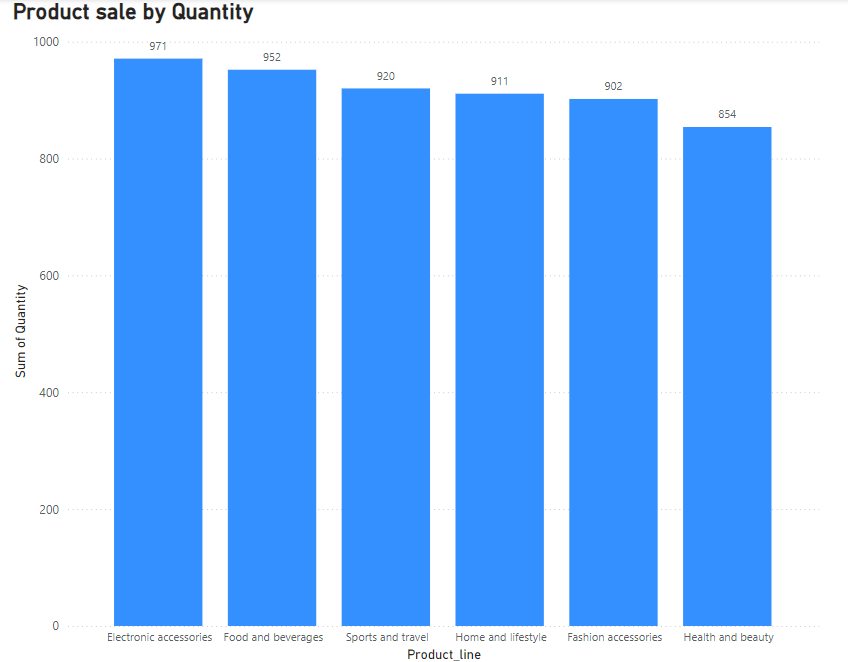

The page's visual inventory and layout, read from the dashboard file:
{"tool":"powerbi","page":{"name":"Product sale by Quantity","canvas":[1280,720],"ordinal":6},"visuals":[{"type":"clusteredColumnChart","title":"Product sale by Quantity","fields":{"Category":["supermarket_sales_data.Product_line"],"Y":["Sum(supermarket_sales_data.Quantity)"]},"box":[9.7,0,880.9,720.6],"z":0}]}

Visuals, with their boxes on the page's 1280x720 design canvas (x1, y1, x2, y2). These are canvas units, not pixel positions in the 848x662 screenshot, which may show the page scaled, cropped or inside an application window:
"Product sale by Quantity" clusteredColumnChart: {"left": 10, "top": 0, "right": 891, "bottom": 721}
